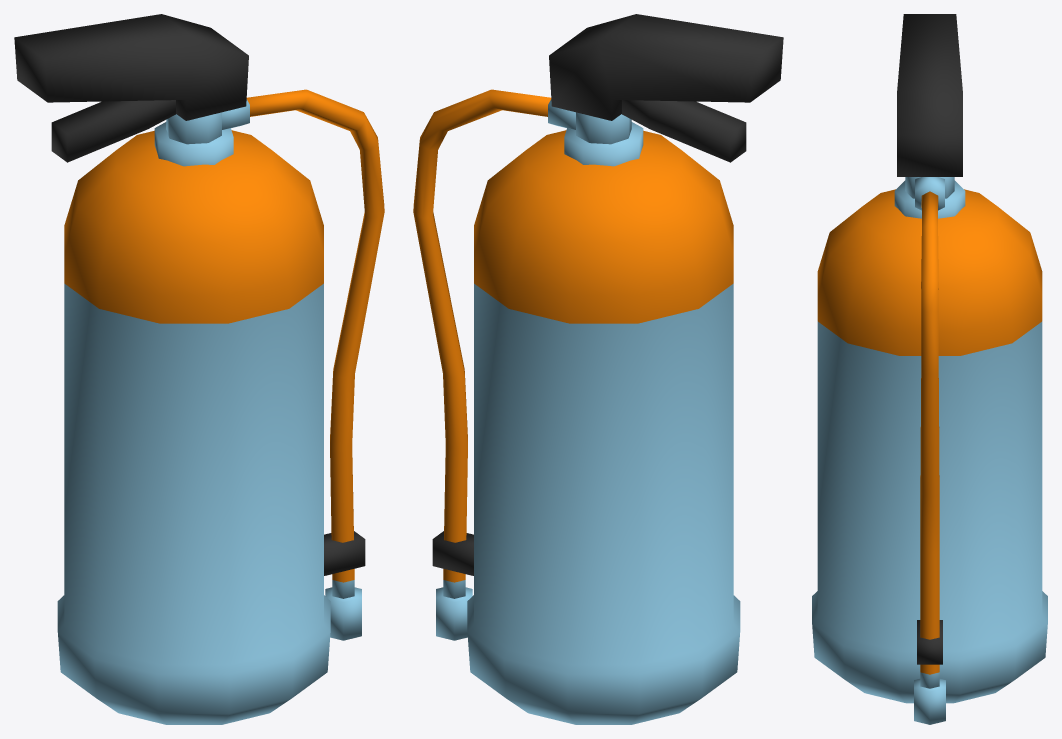
File: Extinguisher.FBX
3 views of the same model, side by side, from view 1: azimuth 30°, elevation 25°; view 2: azimuth 150°, elevation 25°; view 3: azimuth 270°, elevation 25° (orthographic). The views are drawn at different scales.
Parts seen in each view (by area): view 1: Extinguisher; view 2: Extinguisher; view 3: Extinguisher.
Part boxes in pixels (x1,y1,x2,y2): Extinguisher: (14, 14, 384, 724); Extinguisher: (413, 14, 783, 724); Extinguisher: (812, 14, 1047, 724).
Bounding box in the file's own units: 0.5069 × 0.9189 × 0.3376.
